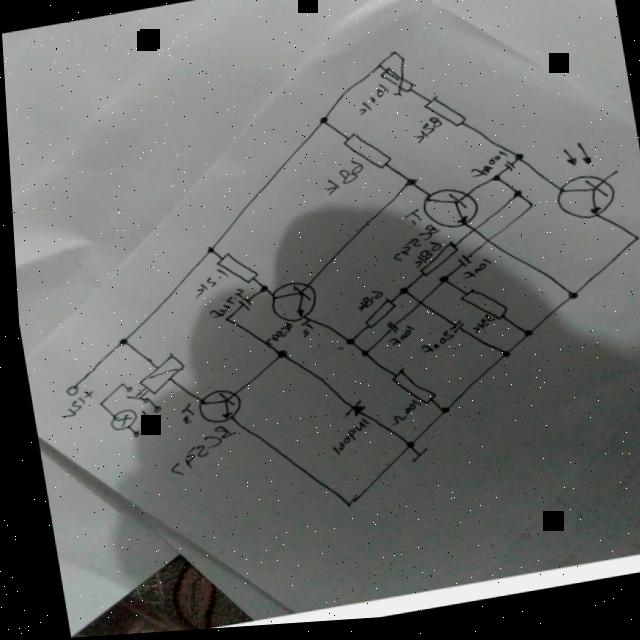capacitor: (442, 324, 460, 339), (232, 298, 248, 314), (453, 257, 467, 272), (381, 323, 395, 337), (498, 165, 512, 178)
crossover: (463, 229, 477, 241), (477, 240, 490, 252), (409, 301, 423, 312)
diode: (336, 402, 361, 421)
ground: (401, 449, 426, 468)
junction: (432, 408, 446, 419), (269, 350, 283, 361), (110, 336, 124, 347), (90, 399, 104, 410), (401, 180, 414, 191), (486, 177, 499, 188), (507, 194, 520, 205), (516, 333, 529, 344), (493, 354, 506, 365), (433, 279, 446, 290), (393, 289, 406, 300), (338, 339, 351, 350), (561, 297, 575, 307), (353, 351, 367, 361), (510, 157, 523, 167), (398, 442, 411, 452), (335, 502, 348, 512), (107, 380, 120, 390), (253, 286, 265, 296), (315, 118, 326, 128), (200, 247, 212, 256), (217, 316, 228, 325), (371, 65, 382, 74), (387, 52, 397, 61), (523, 206, 533, 214), (627, 240, 637, 248), (396, 58, 405, 66)
resistor: (337, 130, 390, 179), (452, 287, 506, 333), (384, 366, 432, 414), (209, 249, 257, 291), (410, 244, 459, 283), (418, 96, 464, 137), (375, 67, 414, 104), (354, 300, 395, 334)
terminal: (59, 383, 75, 396), (145, 404, 157, 414), (124, 428, 136, 438)
text: (158, 422, 235, 479), (383, 226, 442, 268), (321, 420, 368, 459), (318, 161, 364, 200), (462, 154, 508, 185), (185, 267, 227, 300), (200, 289, 243, 321), (352, 85, 390, 120), (405, 243, 442, 274), (52, 389, 91, 418), (381, 402, 418, 430), (413, 333, 452, 359), (410, 120, 441, 149), (454, 262, 491, 286), (257, 323, 290, 349), (380, 327, 413, 352), (350, 291, 380, 316), (464, 317, 493, 339), (172, 402, 191, 427), (398, 212, 419, 232), (294, 321, 311, 341), (130, 409, 146, 425)
transistor: (543, 142, 621, 230), (415, 188, 478, 239), (262, 281, 315, 329), (188, 386, 239, 428)
